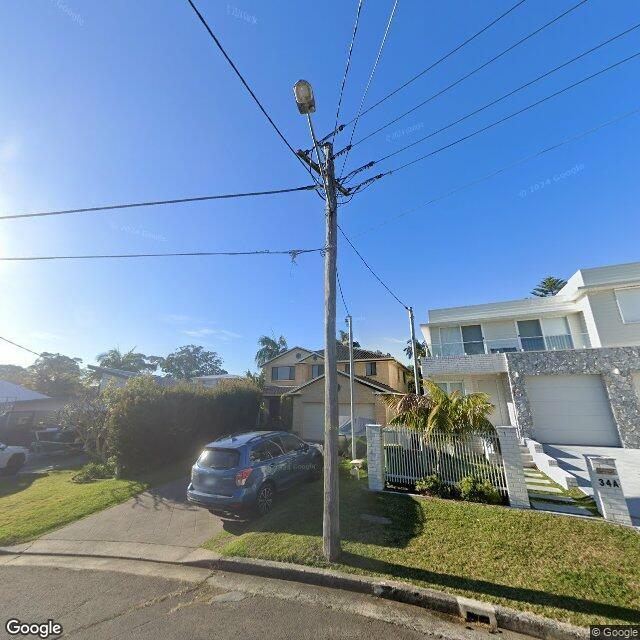crossarm: (295, 148, 351, 198)
steel-pole: (347, 316, 356, 459), (408, 306, 420, 394)
streetlight: (293, 79, 332, 212)
timber-pole: (322, 142, 341, 560)
